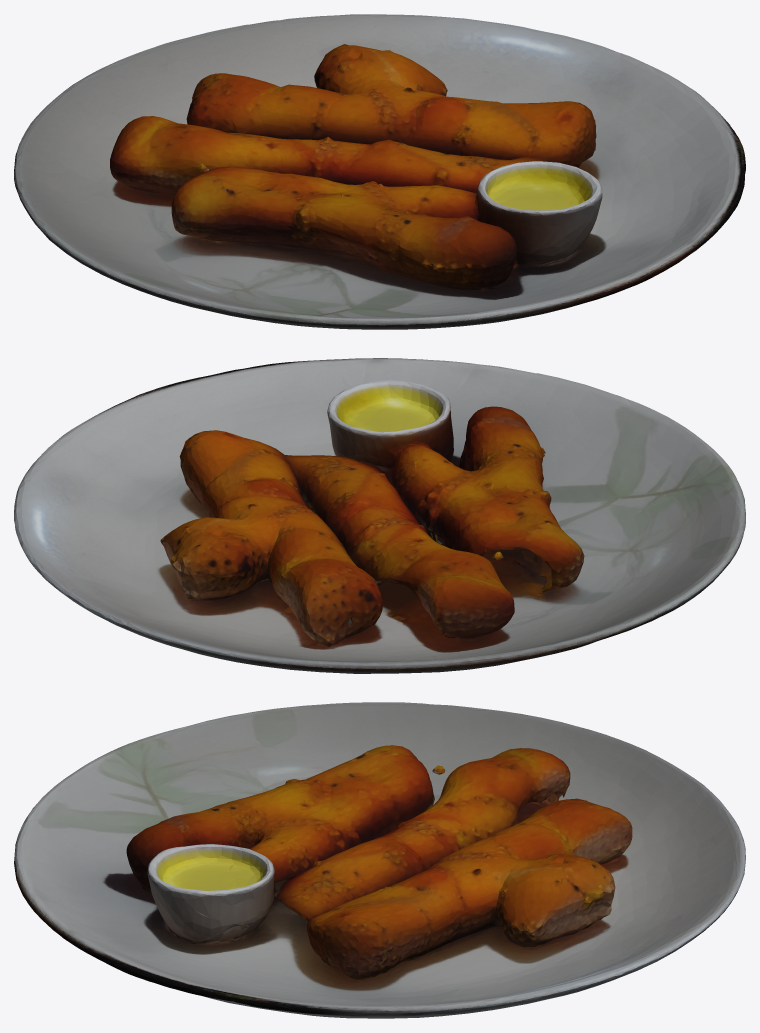
The model's file is fabri.glb.
The picture shows the model from 3 angles, top to bottom: view 1: azimuth 30°, elevation 25°; view 2: azimuth 150°, elevation 25°; view 3: azimuth 270°, elevation 25°; orthographic projection.
Visible parts, largest first — view 1: world; view 2: world; view 3: world.
Part boxes in pixels (<box>): world: <box>14,14,745,329</box>; world: <box>14,358,745,673</box>; world: <box>14,702,745,1018</box>.
Bounding box in the file's own units: 0.9998 × 0.127 × 1.
1 material, 1 textured.
